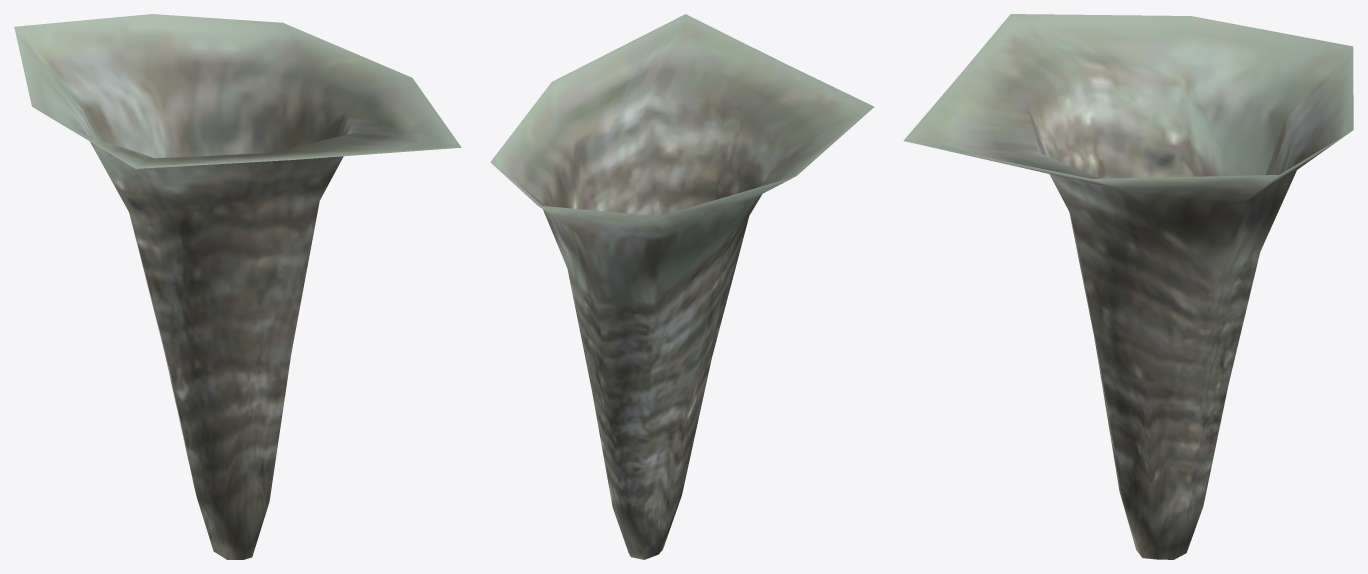
File: TROLLHOLE02_PS-MAINSTALAG96.fbx
3 views of the same model, side by side, from view 1: azimuth 30°, elevation 25°; view 2: azimuth 150°, elevation 25°; view 3: azimuth 270°, elevation 25° (orthographic). The views are drawn at different scales.
Visible parts, largest first — view 1: TROLLHOLE02_PS-MAINSTALAG96; view 2: TROLLHOLE02_PS-MAINSTALAG96; view 3: TROLLHOLE02_PS-MAINSTALAG96.
Boxes of the visible parts, box(x1,y1,x2,y2) form: TROLLHOLE02_PS-MAINSTALAG96: box(14, 14, 461, 559); TROLLHOLE02_PS-MAINSTALAG96: box(490, 14, 874, 559); TROLLHOLE02_PS-MAINSTALAG96: box(903, 14, 1353, 559).
Size of the model in its own units: 22911 by 32746 by 28855.
Materials: 1 (1 with a texture image).
